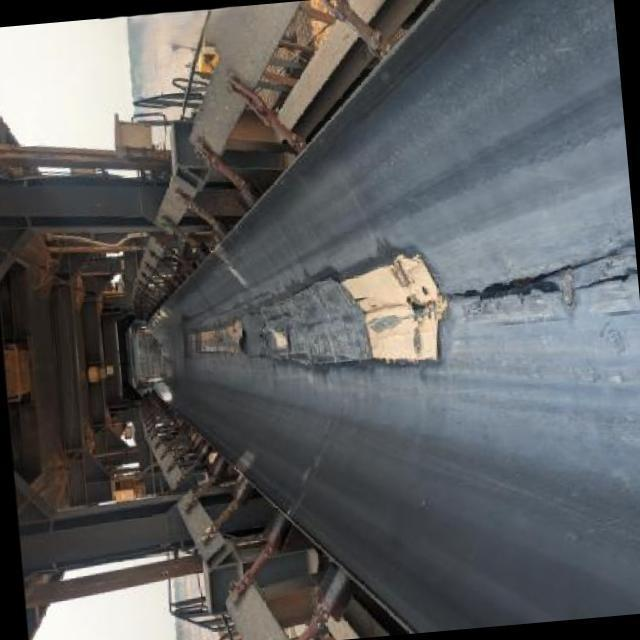Tear: (438, 239, 640, 301), (573, 260, 638, 293)
